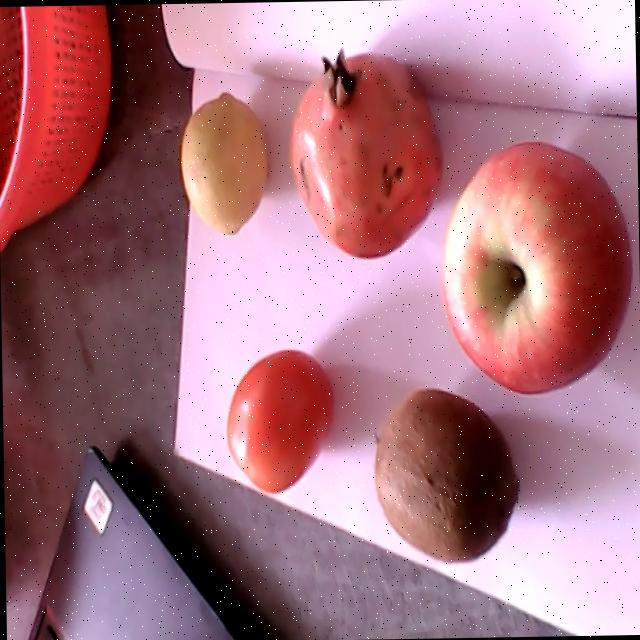apple: (442, 140, 631, 393)
kiwi: (371, 390, 518, 561)
lemon: (178, 92, 266, 234)
pomegranate: (289, 46, 442, 257)
tomato: (225, 352, 333, 492)
